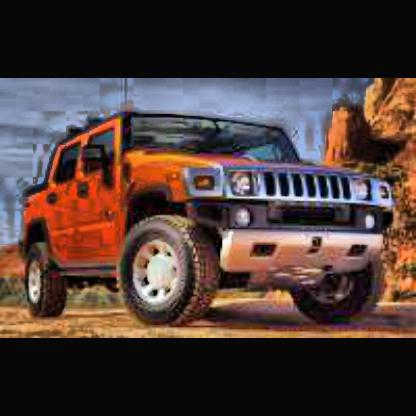HUMMER H2 SUT Crew Cab 2009: (18, 102, 404, 332)
